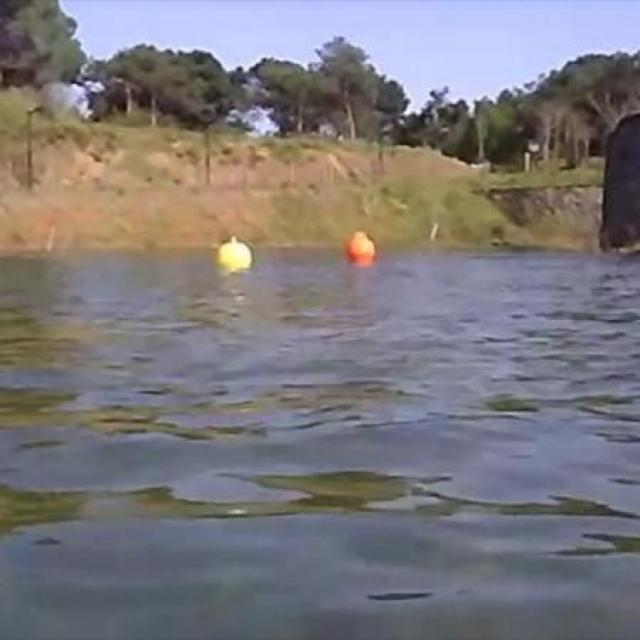buoy: (218, 236, 253, 267), (346, 230, 376, 261)
